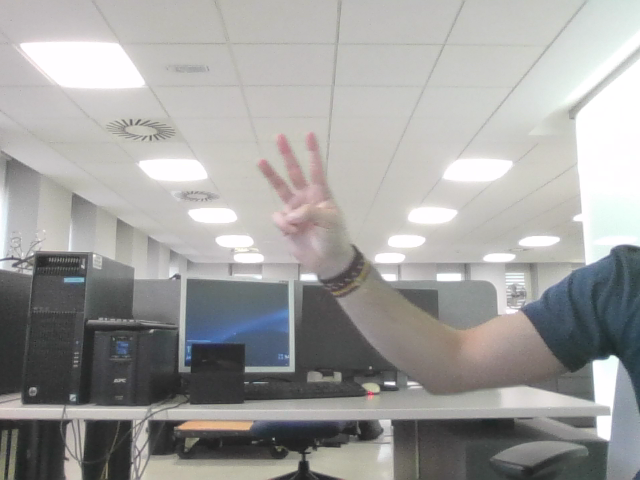3Dedos: (265, 142, 330, 236)
